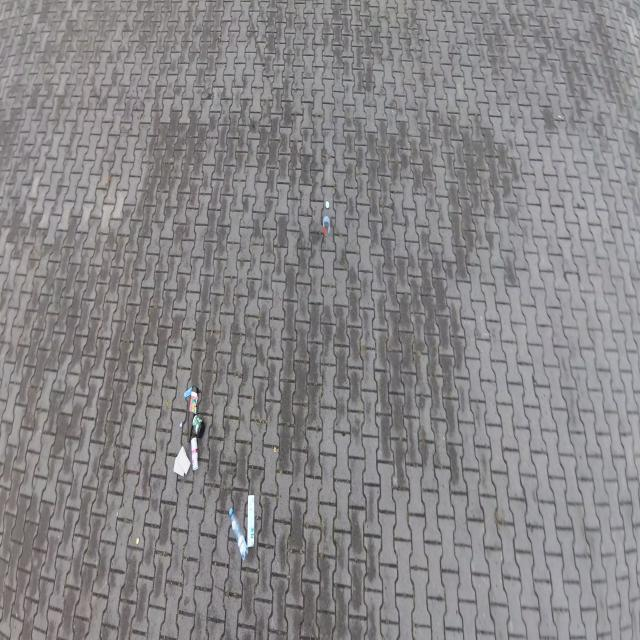rubbish: (228, 508, 249, 563), (173, 446, 191, 478), (247, 491, 254, 546), (192, 412, 204, 439), (322, 202, 331, 235), (188, 386, 199, 413), (190, 436, 198, 470), (183, 386, 192, 396), (179, 423, 182, 427), (136, 538, 138, 543)
